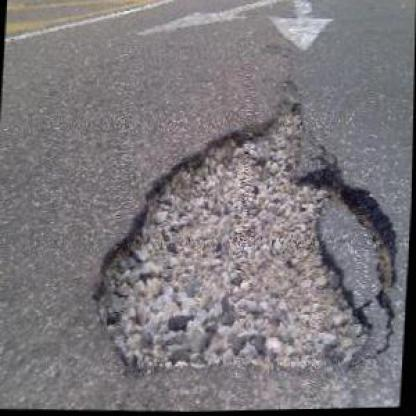pothole: (86, 79, 410, 387)
